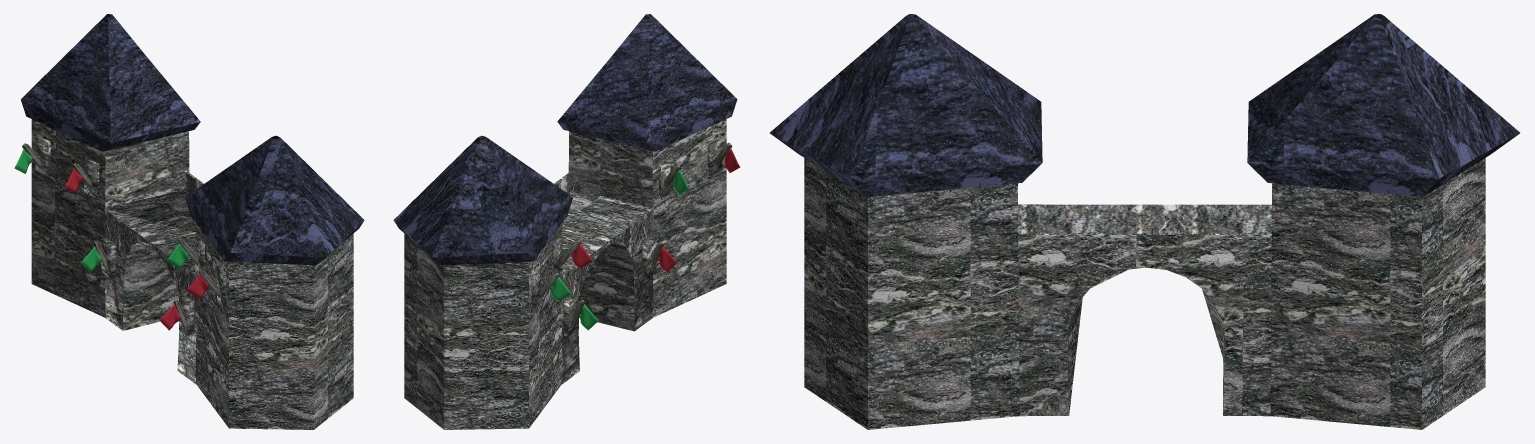
Rendered from castl.fbx.
3 views of the same model, side by side, from view 1: azimuth 30°, elevation 25°; view 2: azimuth 150°, elevation 25°; view 3: azimuth 270°, elevation 25° (orthographic). The views are drawn at different scales.
Parts seen in each view (by area): view 1: Cube.011, Cube.001, Plane.004, Plane.002, Plane.001, Plane.008; view 2: Cube.011, Cube.001, Plane.001, Plane.008, Plane.004, Plane.002; view 3: Cube.011, Cube.001.
Part boxes in pixels (x1,y1,x2,y2): Cube.011: [31, 119, 353, 429]; Cube.001: [21, 14, 364, 265]; Plane.004: [186, 269, 220, 298]; Plane.002: [166, 238, 198, 268]; Plane.001: [14, 143, 42, 173]; Plane.008: [64, 163, 92, 193]; Cube.011: [404, 119, 726, 429]; Cube.001: [393, 14, 737, 265]; Plane.001: [537, 272, 571, 301]; Plane.008: [559, 239, 593, 268]; Plane.004: [713, 142, 740, 172]; Plane.002: [664, 164, 688, 194]; Cube.011: [804, 158, 1485, 429]; Cube.001: [770, 14, 1519, 196].
Bounding box in the file's own units: 282 × 446 × 818.
